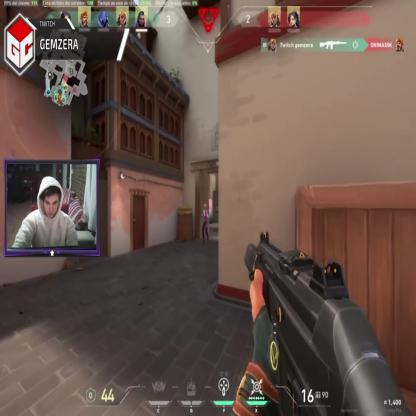enemy: (200, 202, 209, 243)
enemy_head: (204, 203, 207, 211)
